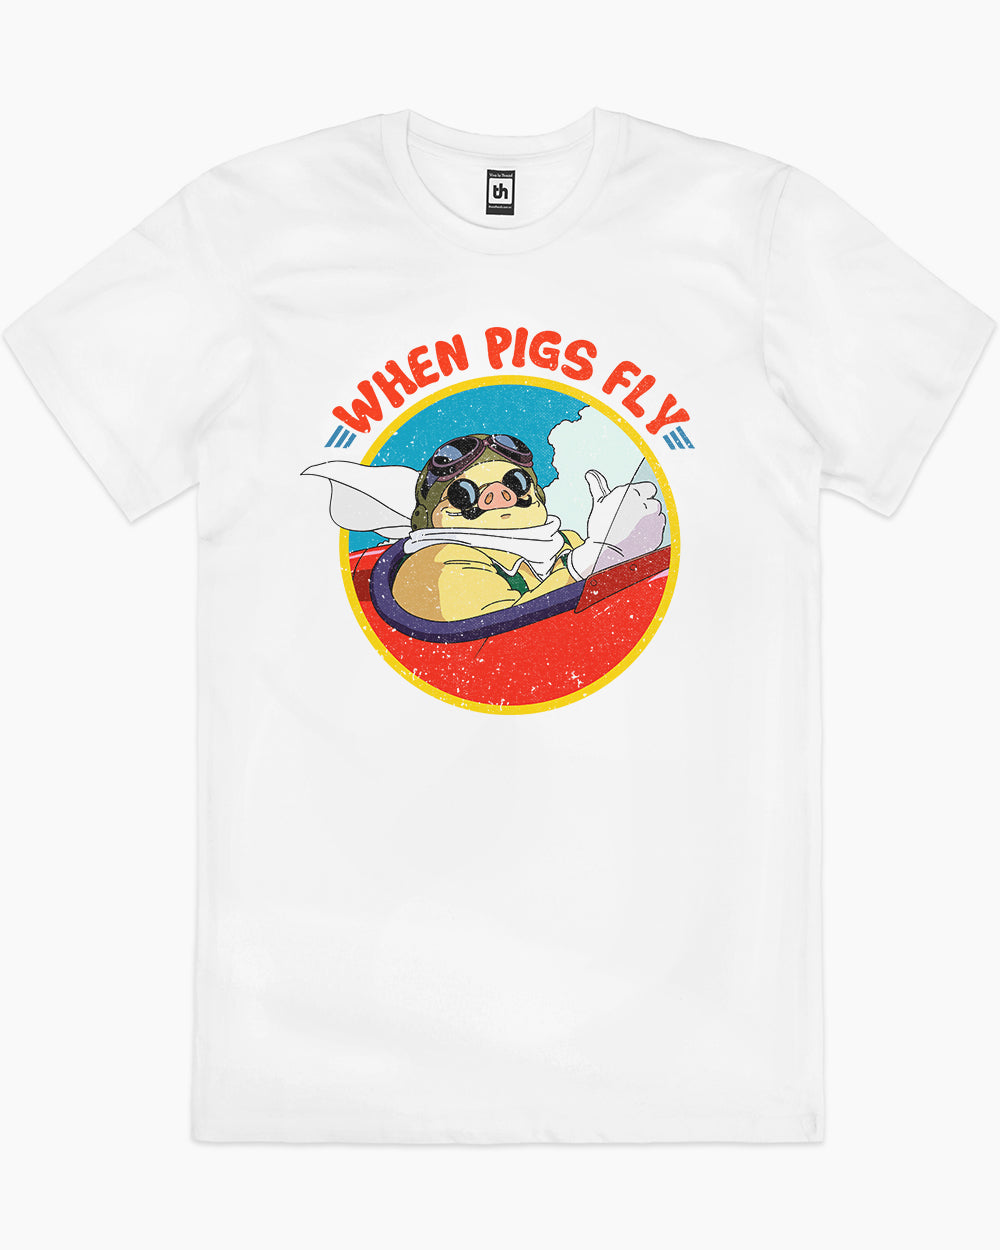design: (294, 318, 702, 722)
